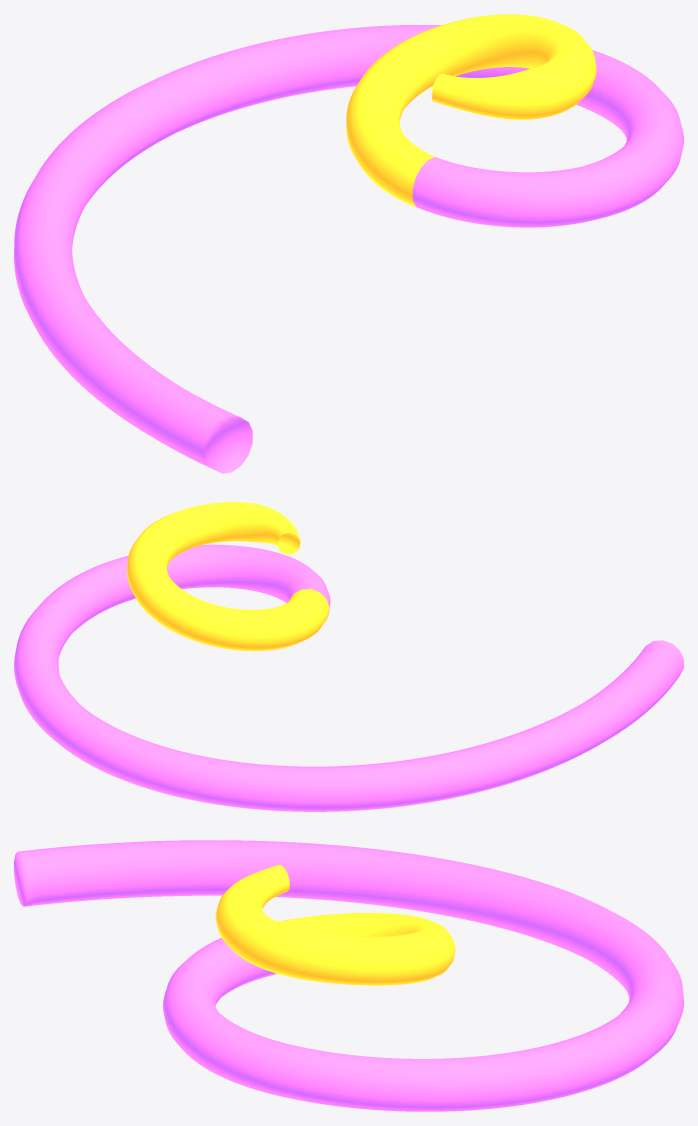
File: orca_noodle.glb
The picture shows the model from 3 angles, top to bottom: view 1: azimuth 30°, elevation 25°; view 2: azimuth 150°, elevation 25°; view 3: azimuth 270°, elevation 25°; orthographic projection. The views are drawn at different scales.
Visible parts, largest first — view 1: Orca | TURN COUNT NOODLE | T00_100, Orca | TURN COUNT NOODLE | T100_200; view 2: Orca | TURN COUNT NOODLE | T00_100, Orca | TURN COUNT NOODLE | T100_200; view 3: Orca | TURN COUNT NOODLE | T00_100, Orca | TURN COUNT NOODLE | T100_200.
Boxes of the visible parts, x1,y1,x2,y2 form: Orca | TURN COUNT NOODLE | T00_100: [14, 25, 683, 473]; Orca | TURN COUNT NOODLE | T100_200: [346, 14, 596, 206]; Orca | TURN COUNT NOODLE | T00_100: [14, 544, 683, 811]; Orca | TURN COUNT NOODLE | T100_200: [127, 502, 329, 651]; Orca | TURN COUNT NOODLE | T00_100: [14, 840, 683, 1111]; Orca | TURN COUNT NOODLE | T100_200: [215, 865, 455, 985].
Bounding box in the file's own units: 14.08 × 4.39 × 13.36.
